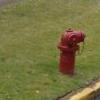Hydrant: (54, 23, 88, 78)
